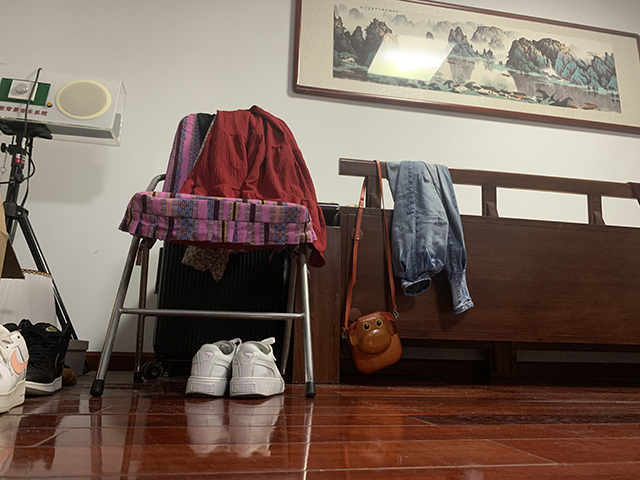bed: (291, 157, 640, 385)
stool: (88, 105, 328, 400)
